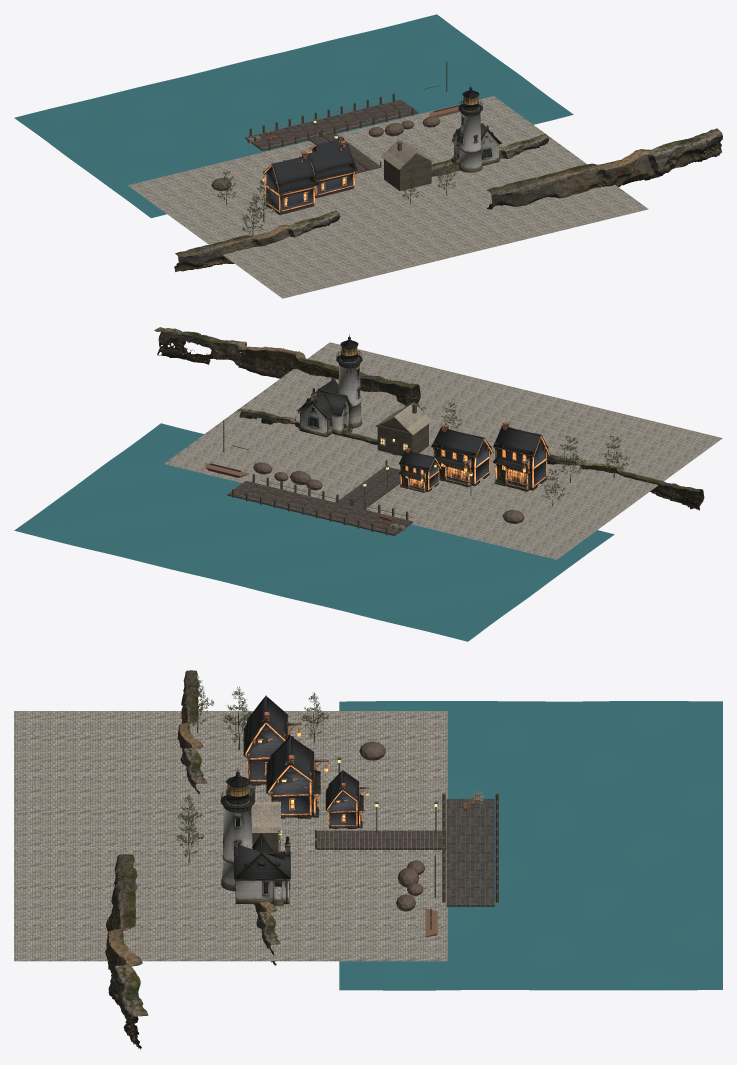
File: bellweather-harbor-v4.glb
3 renders of one model, top to bottom at view 1: azimuth 30°, elevation 25°; view 2: azimuth 150°, elevation 25°; view 3: azimuth 270°, elevation 25°, orthographic. The views are drawn at different scales.
Visible parts, largest first — view 1: Bellweather shore, Sculpted harbor water, CC0 scanned outer headland, CC0 scanned coastal cliff east, Main wet timber pier, Tripo Lighthouse and Keeper Cottage, Tripo Harbor rooms, Tripo Turner chandlery, Net menders cottage plaster body, CC0 scanned coastal cliff west, Boardwalk to the keeper street, Net menders cottage repaired east slate roof; view 2: Sculpted harbor water, Bellweather shore, CC0 scanned outer headland, Tripo Lighthouse and Keeper Cottage, Main wet timber pier, Tripo Harbor rooms, Tripo Turner chandlery, CC0 scanned coastal cliff east, Tripo Tide office, Boardwalk to the keeper street, Net menders cottage plaster body, CC0 scanned coastal cliff west (+1 smaller); view 3: Bellweather shore, Sculpted harbor water, Tripo Lighthouse and Keeper Cottage, Main wet timber pier, CC0 scanned outer headland, Tripo Turner chandlery, Tripo Harbor rooms, Boardwalk to the keeper street, Tripo Tide office, CC0 scanned coastal cliff east, Net menders cottage repaired west slate roof, CC0 scanned coastal cliff west (+1 smaller).
Boxes of the visible parts, x1,y1,x2,y2 form: Bellweather shore: [128, 96, 648, 298]; Sculpted harbor water: [14, 14, 573, 217]; CC0 scanned outer headland: [486, 128, 722, 209]; CC0 scanned coastal cliff east: [174, 210, 340, 271]; Main wet timber pier: [245, 99, 418, 150]; Tripo Lighthouse and Keeper Cottage: [451, 85, 502, 172]; Tripo Harbor rooms: [262, 151, 317, 215]; Tripo Turner chandlery: [307, 140, 357, 198]; Net menders cottage plaster body: [384, 159, 431, 190]; CC0 scanned coastal cliff west: [431, 133, 549, 176]; Boardwalk to the keeper street: [310, 133, 379, 173]; Net menders cottage repaired east slate roof: [381, 139, 416, 169]; Sculpted harbor water: [14, 423, 614, 641]; Bellweather shore: [164, 342, 722, 559]; CC0 scanned outer headland: [154, 327, 420, 405]; Tripo Lighthouse and Keeper Cottage: [296, 334, 362, 437]; Main wet timber pier: [227, 481, 412, 535]; Tripo Harbor rooms: [493, 422, 550, 491]; Tripo Turner chandlery: [431, 424, 493, 487]; CC0 scanned coastal cliff east: [547, 454, 704, 510]; Tripo Tide office: [398, 448, 441, 492]; Boardwalk to the keeper street: [336, 467, 400, 509]; Net menders cottage plaster body: [377, 424, 428, 456]; CC0 scanned coastal cliff west: [237, 408, 377, 444]; Bellweather shore: [14, 711, 447, 961]; Sculpted harbor water: [339, 701, 722, 990]; Tripo Lighthouse and Keeper Cottage: [220, 768, 290, 906]; Main wet timber pier: [446, 799, 494, 906]; CC0 scanned outer headland: [105, 854, 148, 1049]; Tripo Turner chandlery: [266, 736, 328, 818]; Tripo Harbor rooms: [243, 695, 301, 785]; Boardwalk to the keeper street: [316, 830, 446, 849]; Tripo Tide office: [325, 770, 369, 828]; CC0 scanned coastal cliff east: [177, 670, 207, 794]; Net menders cottage repaired west slate roof: [251, 802, 280, 833]; CC0 scanned coastal cliff west: [254, 901, 280, 965].
Size of the model in its own units: 102 by 18.71 by 85.
Materials: 17 (11 with a texture image).
